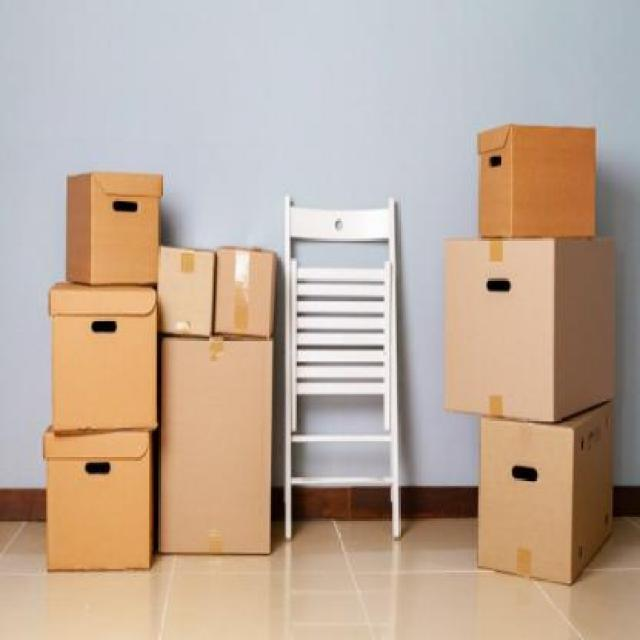box: (442, 233, 618, 427), (160, 328, 280, 562), (478, 412, 614, 582), (46, 426, 162, 578), (50, 280, 162, 432), (478, 125, 606, 242), (65, 173, 159, 283), (212, 243, 274, 341), (156, 241, 212, 343)
